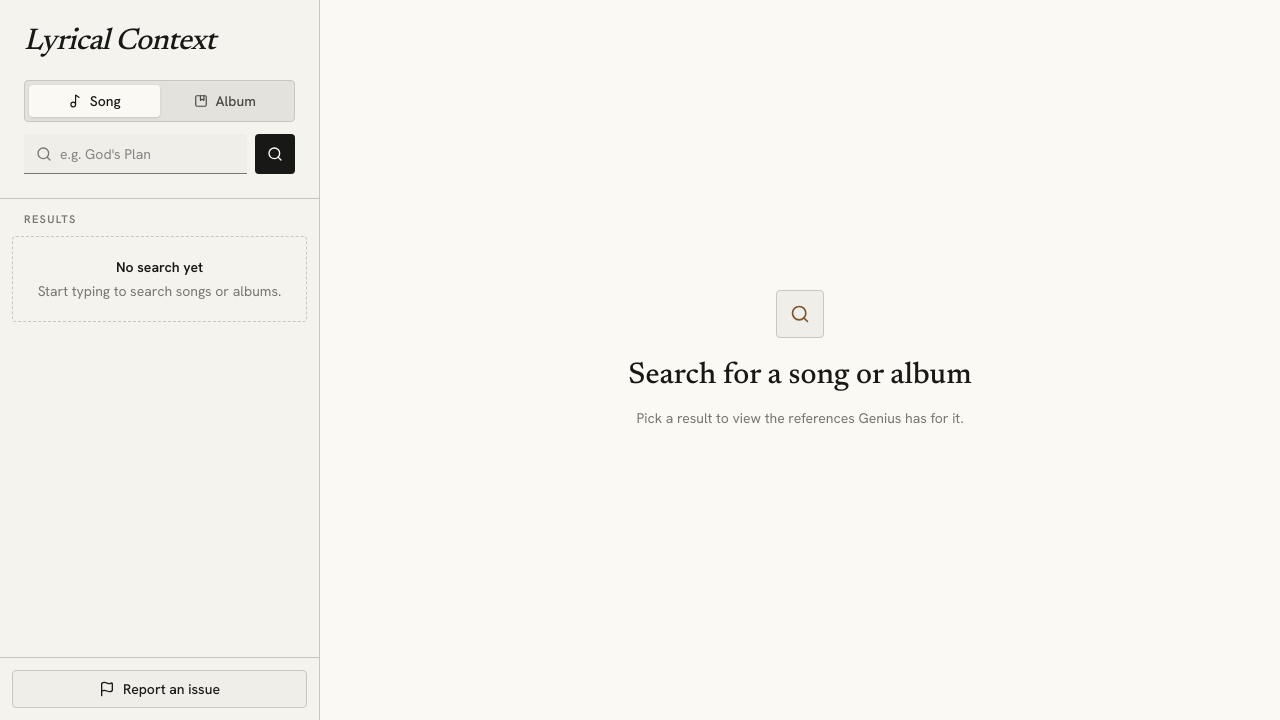
it: ReferenceExplorer › falls back to the artwork placeholder for unsupported image hosts
Step 1. Type "unknown host" into the field with placeholder "e.g. God's Plan" → (136, 154), box top-left (24, 134), bottom-right (247, 174)
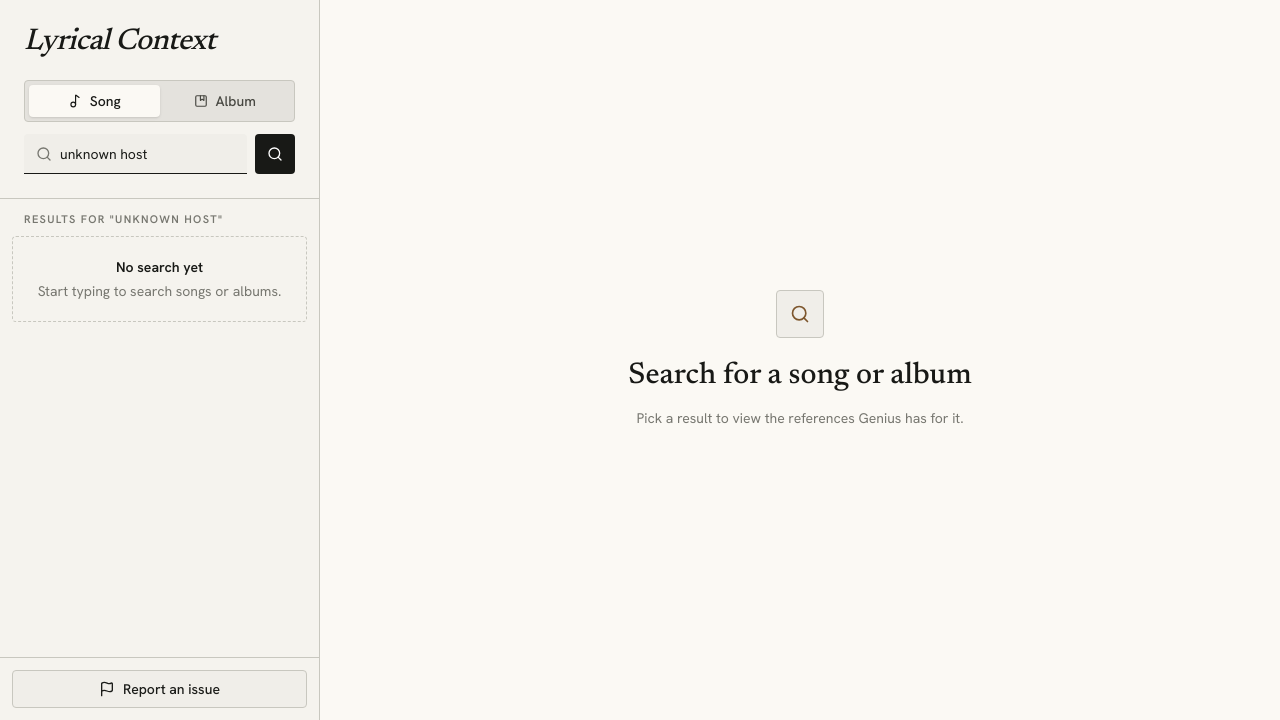
Step 2. Click the button named "Search" → (275, 154), box top-left (255, 134), bottom-right (295, 174)
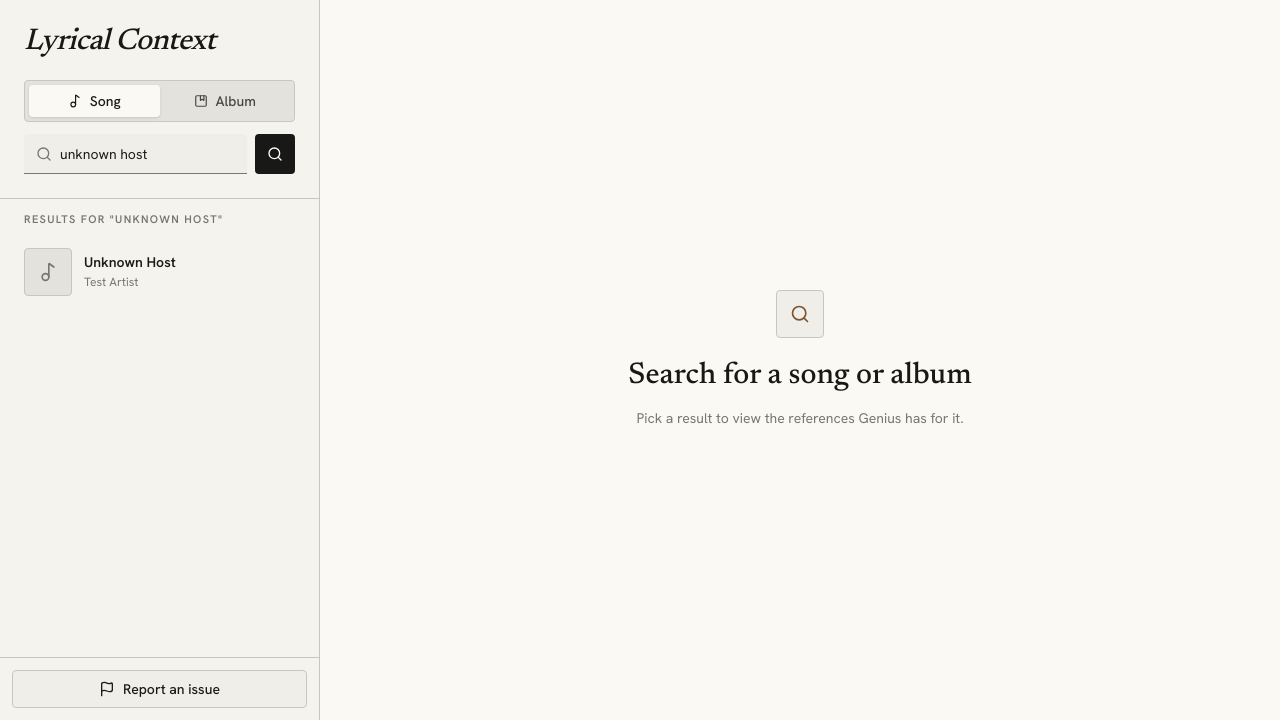
expect the element named "Unknown Host artwork placeholder" is shown: met, box top-left (24, 248), bottom-right (72, 296)
